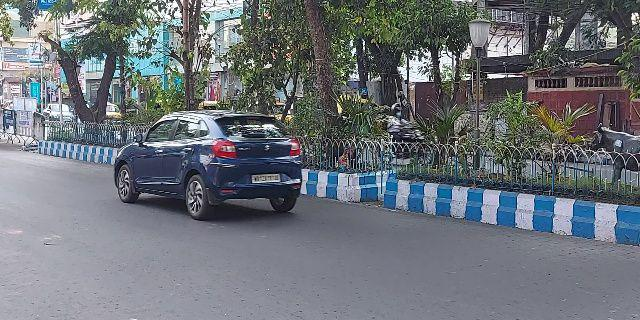Car: (110, 109, 304, 225)
